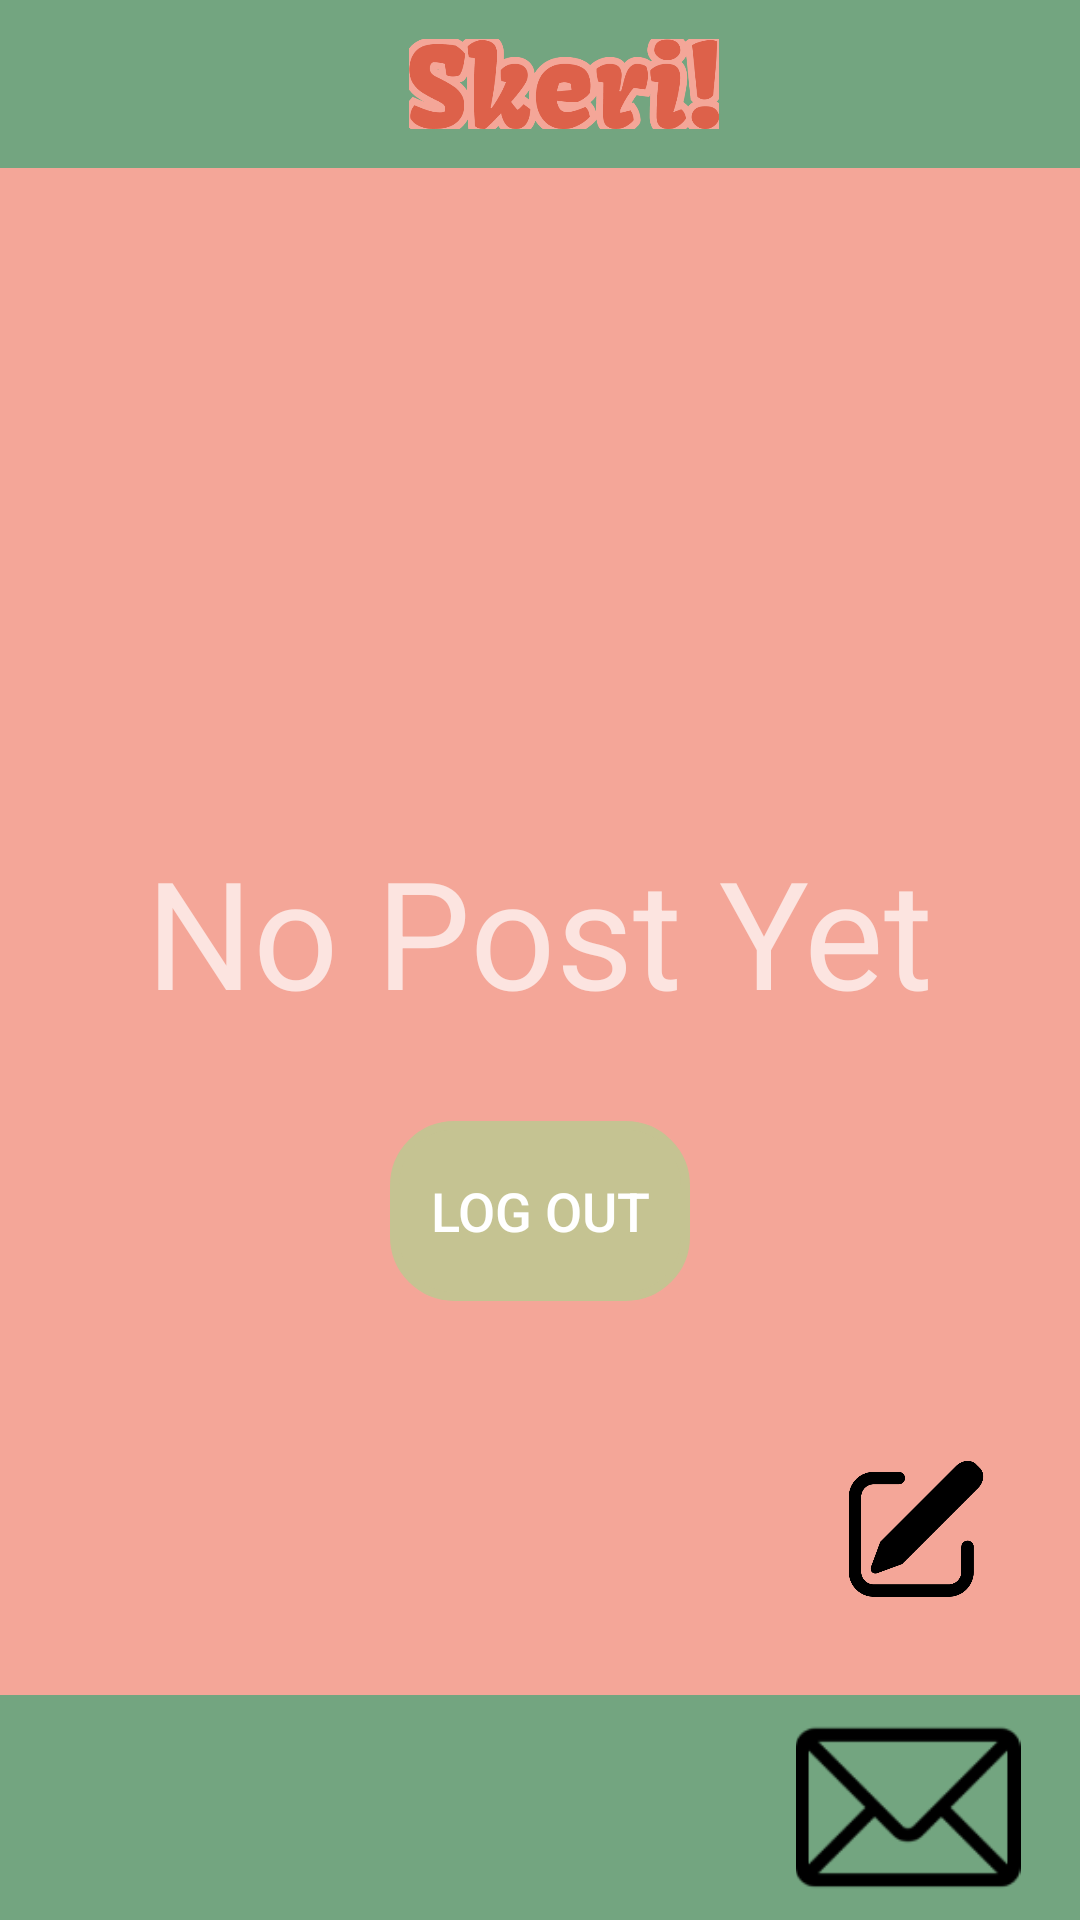

Icon click points for this 1080px×1920px phone screenshot, format (x=x, y=y):
message enve: (x=908, y=1807)
write post: (x=916, y=1529)
